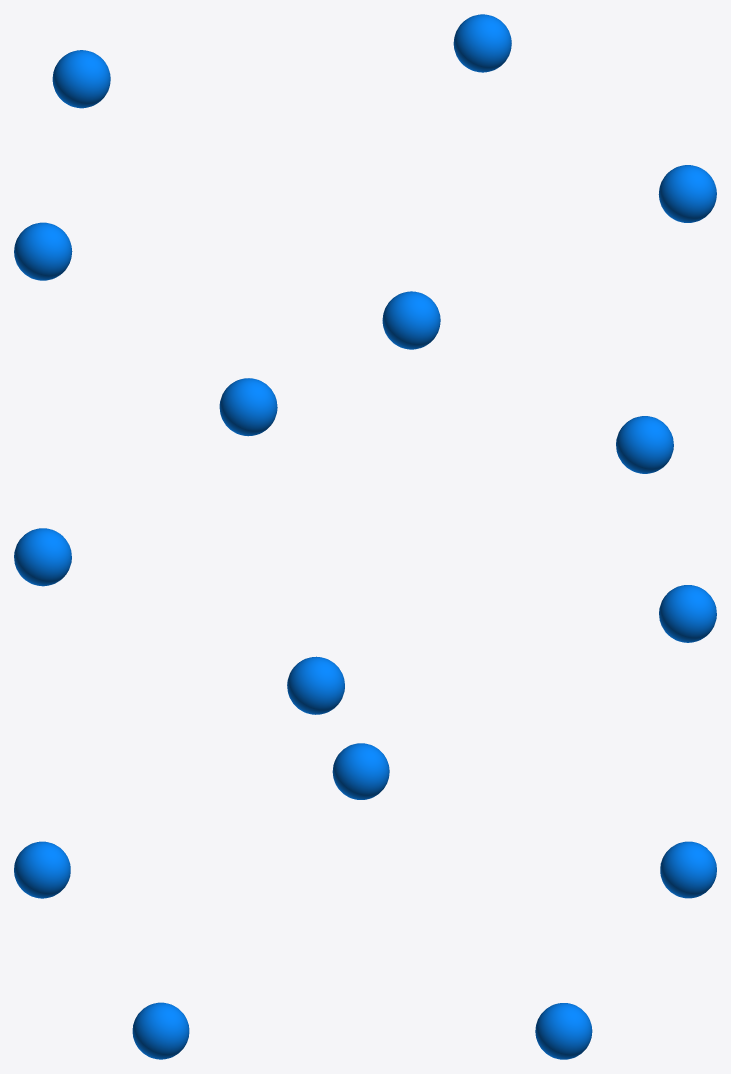
3 views of the same model, one above another, from view 1: azimuth 30°, elevation 25°; view 2: azimuth 150°, elevation 25°; view 3: azimuth 270°, elevation 25° (orthographic). The views are drawn at different scales.
Visible parts, largest first — view 1: Sphere047; view 2: Sphere047; view 3: Sphere047.
Part boxes in pixels (x1,y1,x2,y2): Sphere047: (14, 14, 716, 349); Sphere047: (14, 378, 716, 714); Sphere047: (14, 743, 716, 1059).
Bounding box in the file's own units: 96.69 × 8.22 × 101.
